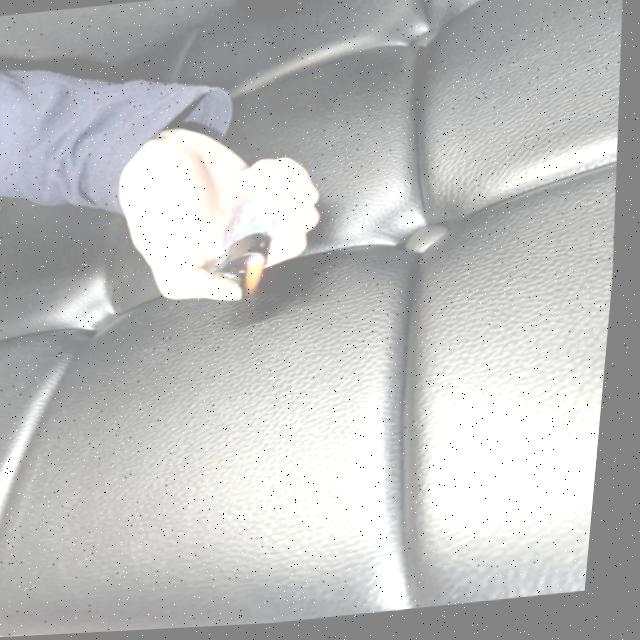Fire: (248, 258, 271, 298)
